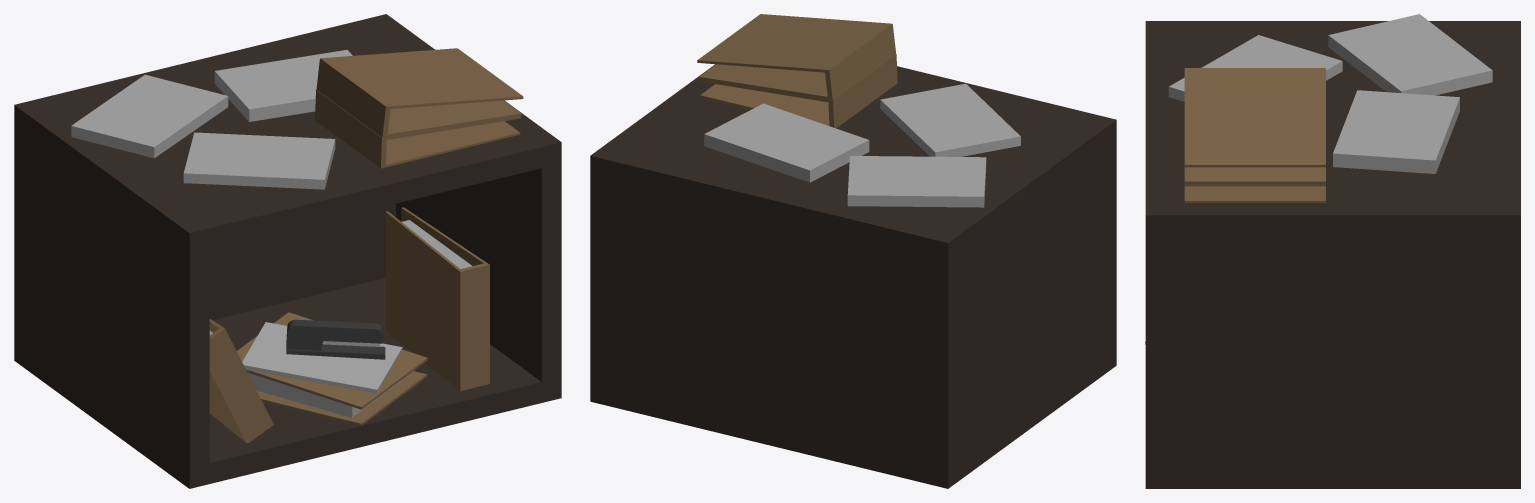
The model's file is UnorganizedFilingShelf2.fbx.
The picture shows the model from 3 angles, left to right: view 1: azimuth 30°, elevation 25°; view 2: azimuth 150°, elevation 25°; view 3: azimuth 270°, elevation 25°; orthographic projection. The views are drawn at different scales.
Visible parts, largest first — view 1: UnorganizedFilingShelf2; view 2: UnorganizedFilingShelf2; view 3: UnorganizedFilingShelf2.
Part boxes in pixels (bbox=[...]): UnorganizedFilingShelf2: bbox=[14, 14, 561, 488]; UnorganizedFilingShelf2: bbox=[590, 14, 1116, 488]; UnorganizedFilingShelf2: bbox=[1145, 14, 1520, 488].
Size of the model in its own units: 0.5659 by 0.46 by 0.4623.
